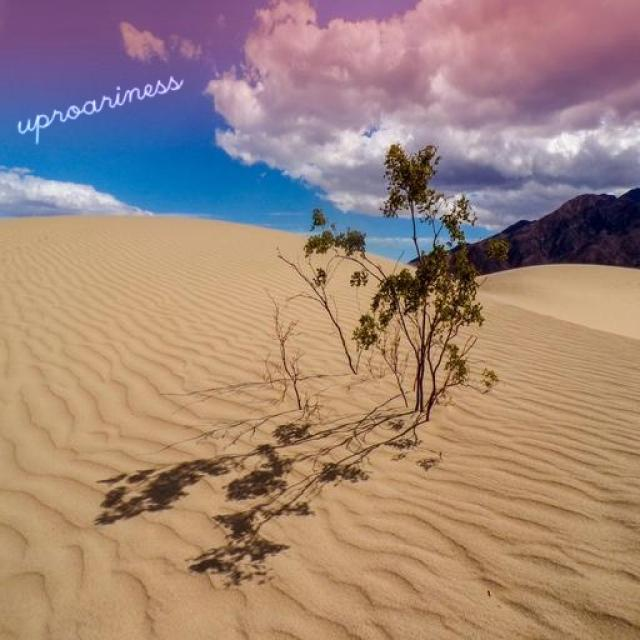watermark: (11, 58, 183, 139)
